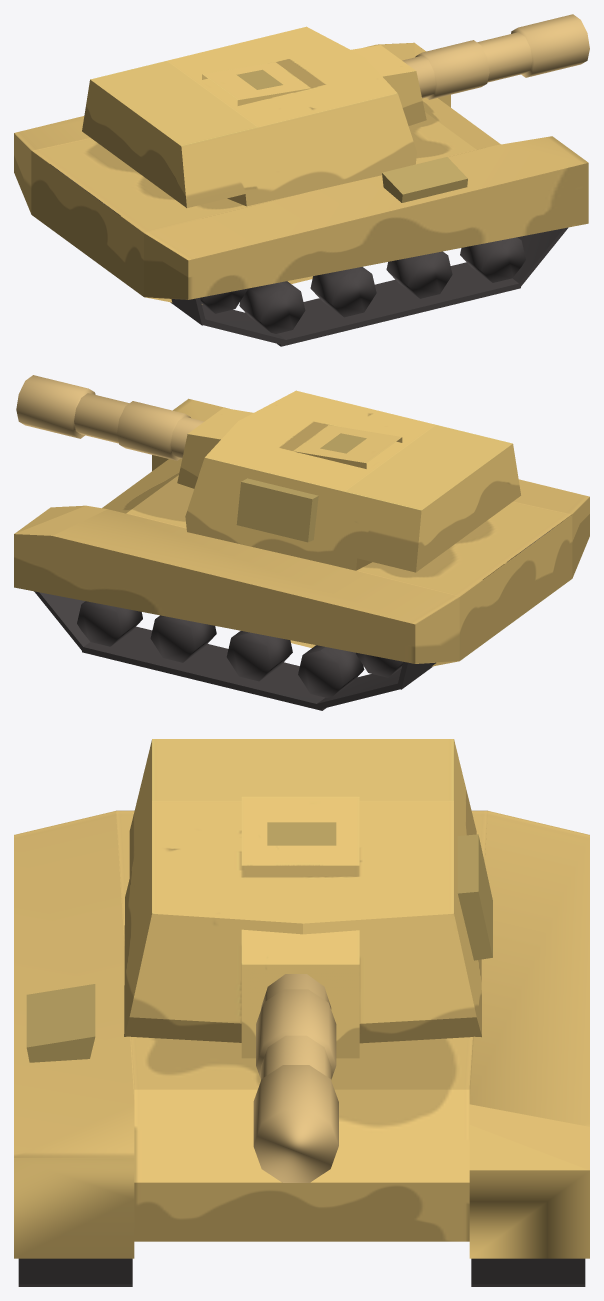
The model's file is tl_GROM_FIX.glb.
The picture shows the model from 3 angles, top to bottom: view 1: azimuth 30°, elevation 25°; view 2: azimuth 150°, elevation 25°; view 3: azimuth 270°, elevation 25°; orthographic projection. The views are drawn at different scales.
Parts seen in each view (by area): view 1: Cube, Cube.001, Cylinder, Plane; view 2: Cube, Cube.001, Cylinder, Plane; view 3: Cube, Cube.001, Cylinder, Plane.
Part boxes in pixels (<box>): Cube: <box>14,42,588,346</box>; Cube.001: <box>82,26,426,207</box>; Cylinder: <box>402,14,589,99</box>; Plane: <box>236,69,282,89</box>; Cube: <box>14,398,589,710</box>; Cube.001: <box>177,390,520,572</box>; Cylinder: <box>16,375,204,460</box>; Plane: <box>320,433,366,453</box>; Cube: <box>14,810,589,1286</box>; Cube.001: <box>124,739,492,1058</box>; Cylinder: <box>253,974,338,1182</box>; Plane: <box>267,822,336,845</box>.
Size of the model in its own units: 11.61 by 4.35 by 7.19.
Materials: 5 (2 with a texture image).
